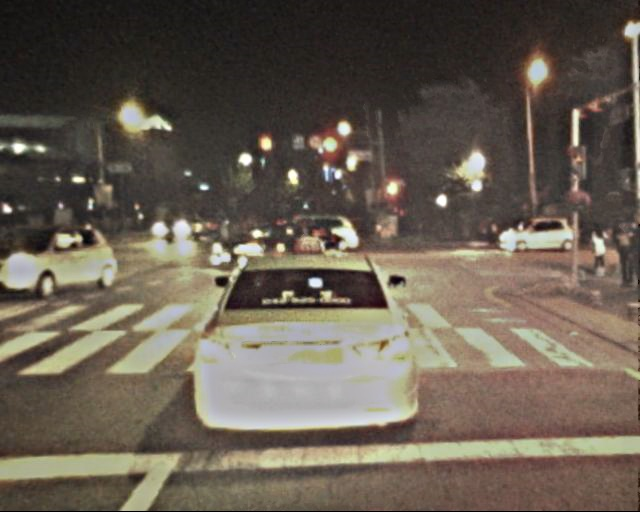person: (609, 216, 636, 283), (213, 208, 263, 238), (588, 225, 608, 274), (479, 217, 504, 247)
